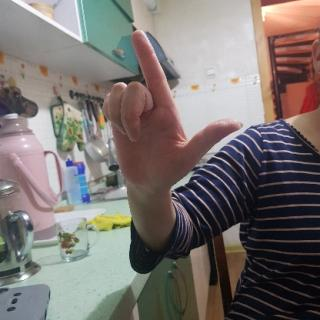LAAM: (98, 28, 247, 200)
